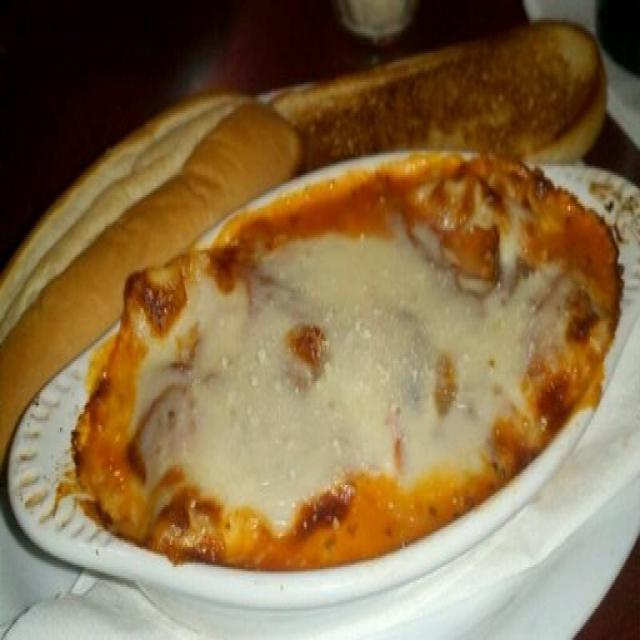Lasagna: (110, 168, 591, 600)
